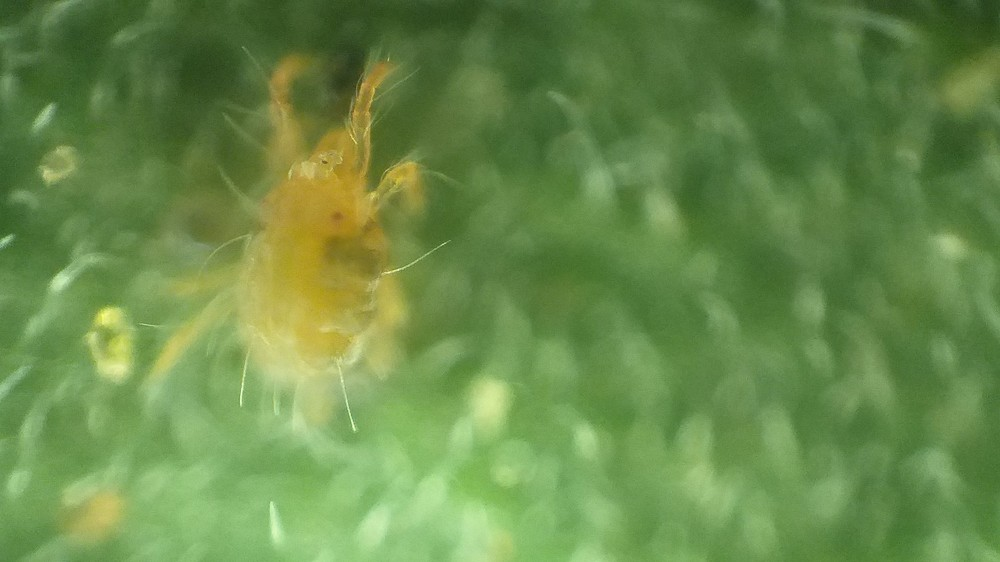Aracnido Rojo: (154, 46, 462, 460)
